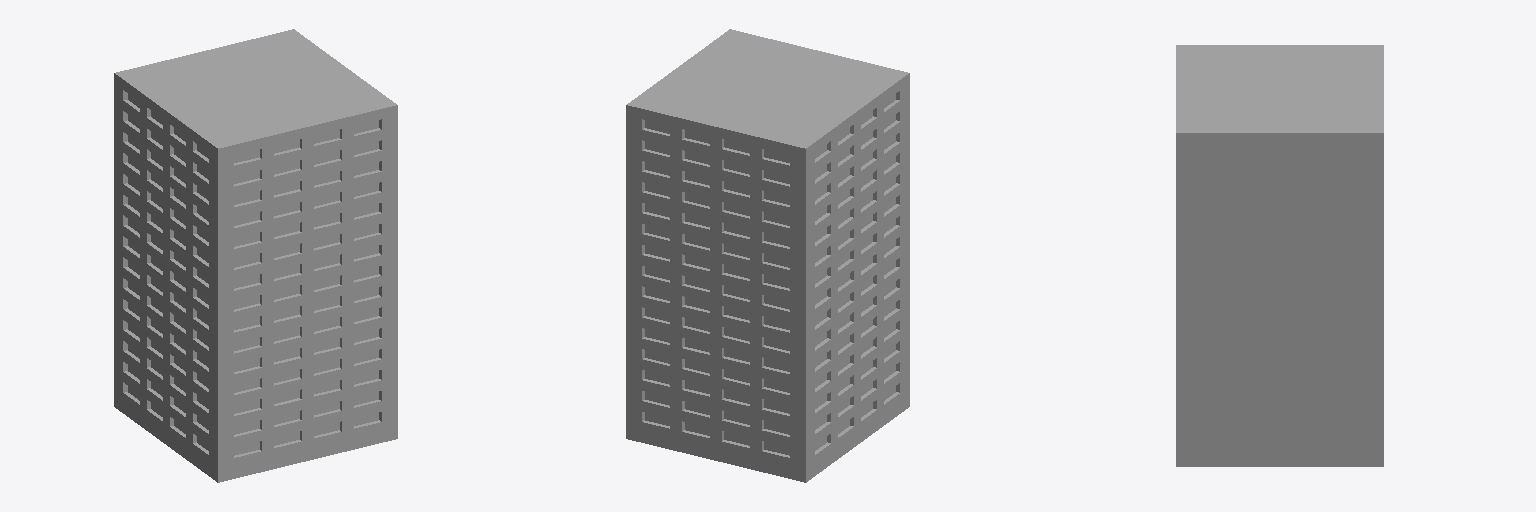
3 views of the same model, side by side, from view 1: azimuth 30°, elevation 25°; view 2: azimuth 150°, elevation 25°; view 3: azimuth 270°, elevation 25° (orthographic).
Parts seen in each view (by area): view 1: Cube; view 2: Cube; view 3: Cube.
Part boxes in pixels (x1,y1,x2,y2): Cube: (114,29,397,482); Cube: (626,29,909,482); Cube: (1176,45,1383,466).
Size of the model in its own units: 4.5 by 8 by 4.5.
1 materials, 1 textured.